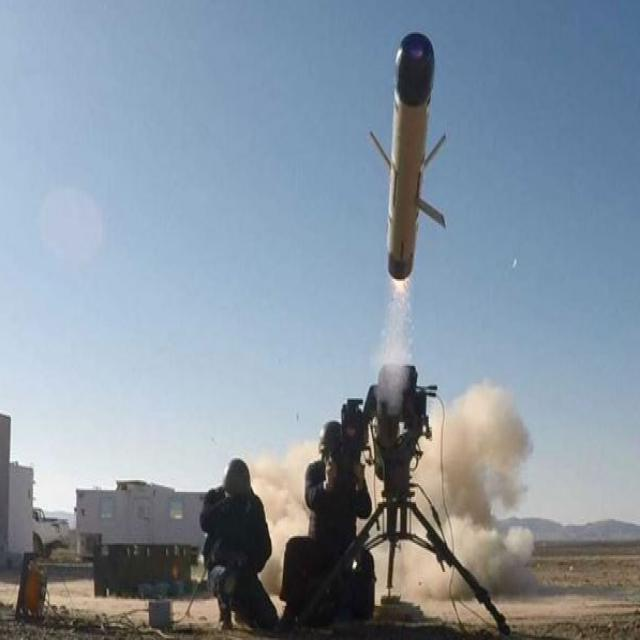missile: (368, 29, 450, 281)
